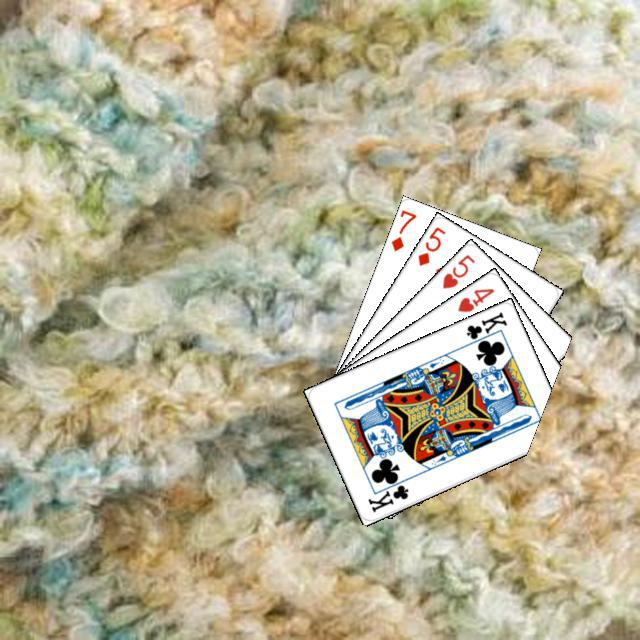4h: (453, 283, 496, 314)
5d: (413, 222, 447, 268)
5h: (437, 249, 477, 291)
7d: (386, 205, 418, 253)
Kc: (461, 307, 509, 348), (363, 473, 410, 514)
